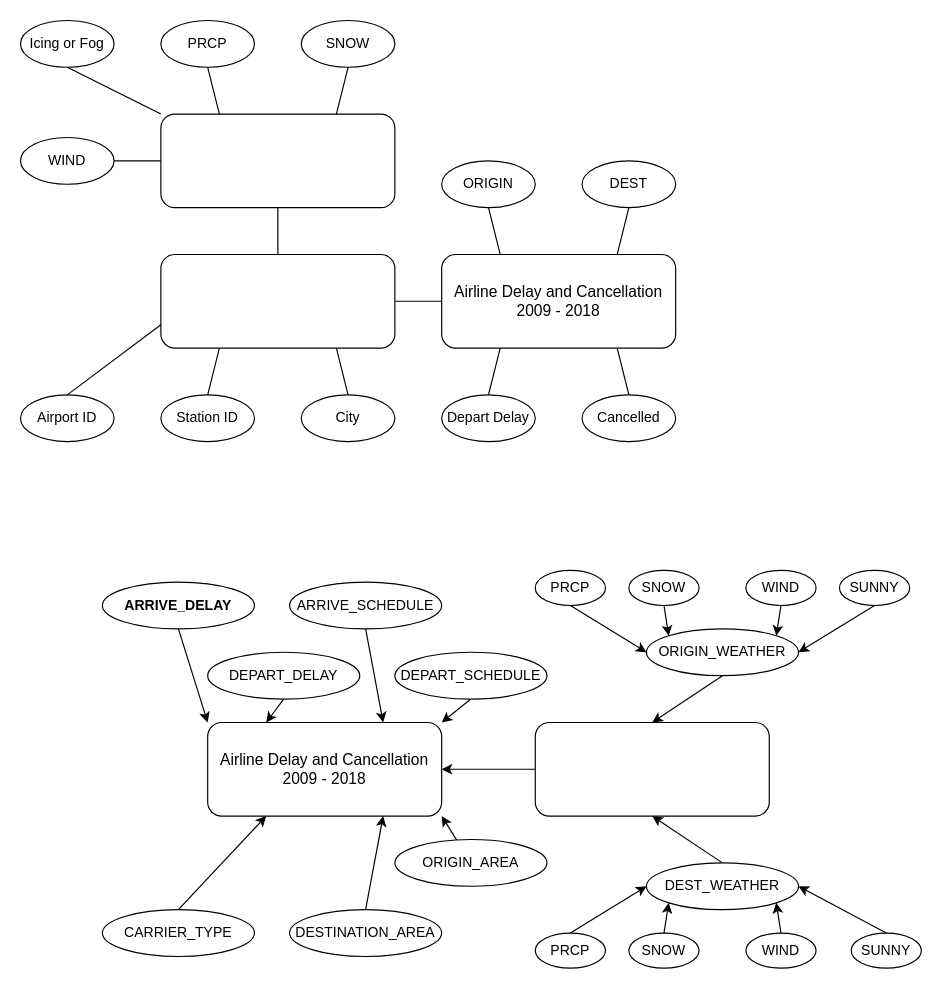
This 942x989 diagram has some shape labels left out. Each missing label, with the centre of its shape:
Daily Summaries 2009 - 2018 - NOAA Climate Data Online: the point at 277,160
GHNC Daily 2009 - 2018: the point at 651,768
NOAA Weather Station and Airport Information Data: the point at 277,300
